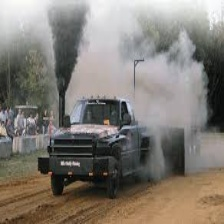smoke: (73, 14, 207, 104)
